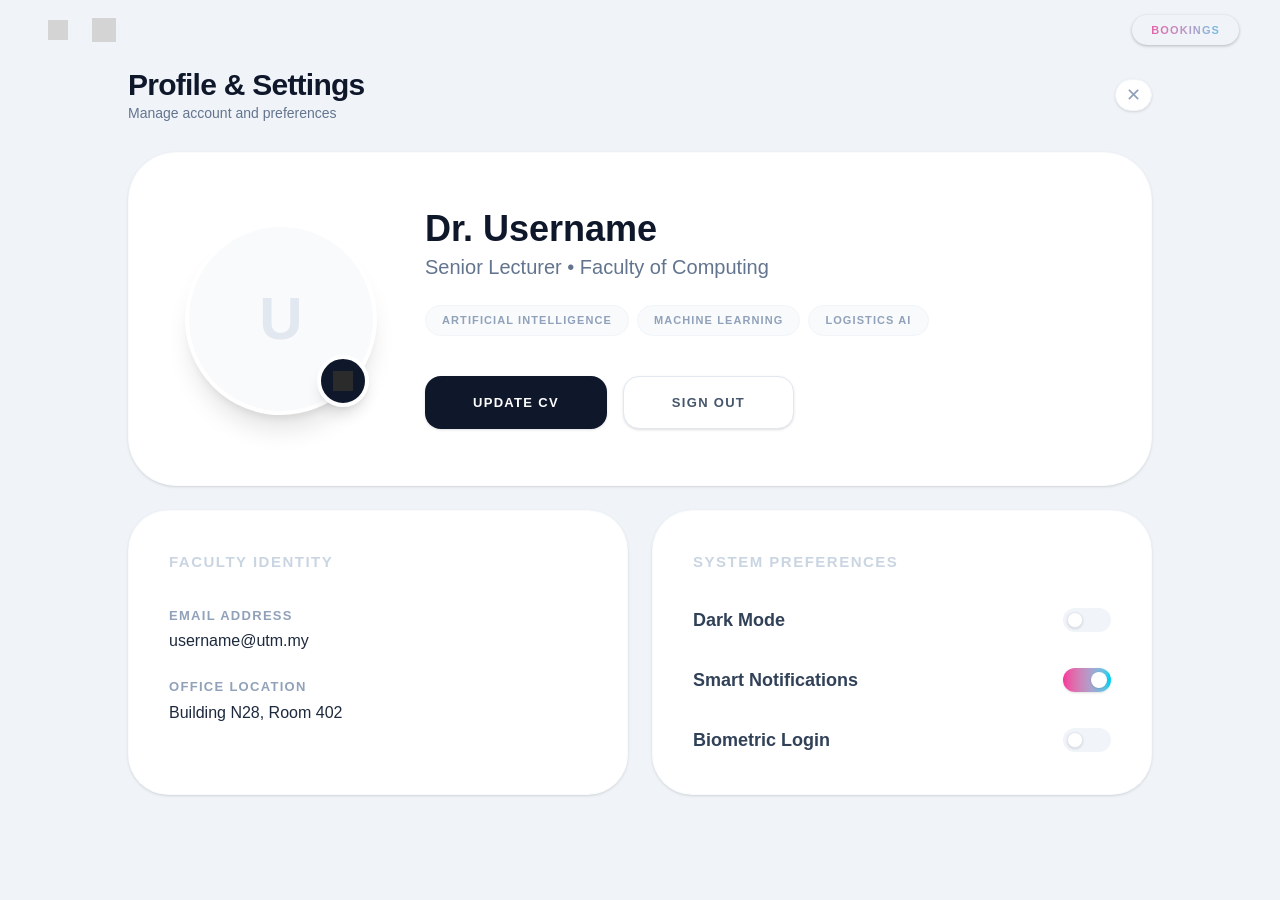
Test case: ProfileSettings › opens sidebar when menu is clicked
What coordinates should you click on to do the following:
click the 1st button with alt text "Menu"
I would click on:
 (58, 30)
Its box is 40,12 -> 76,48.
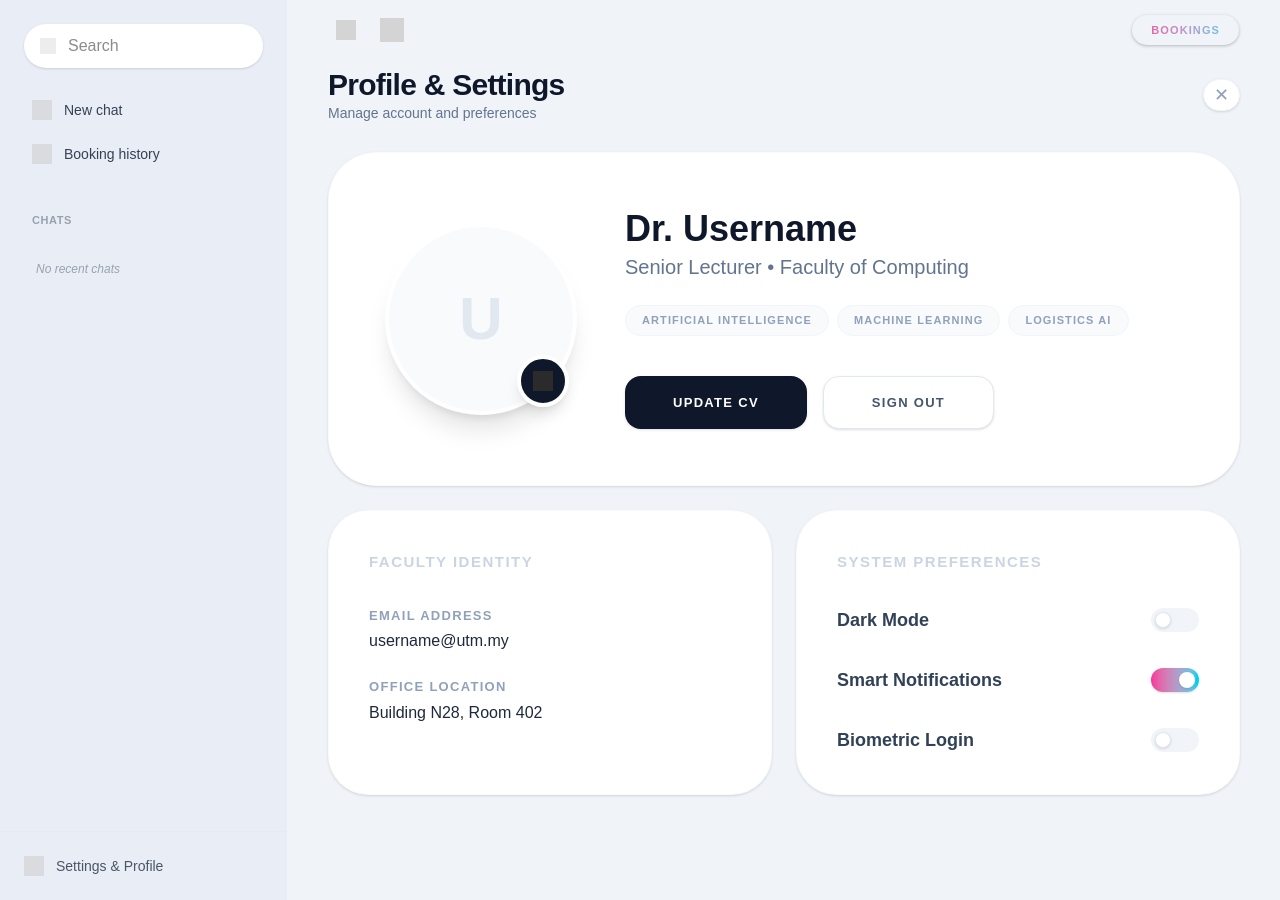
expect the text "New chat" is shown: met, box 64,100 -> 122,120
